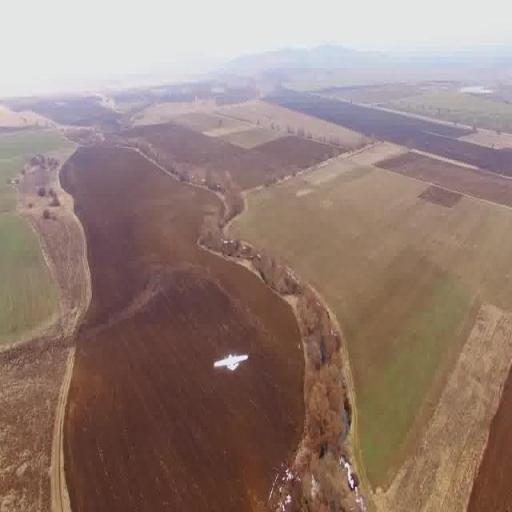uav: (209, 348, 252, 378)
